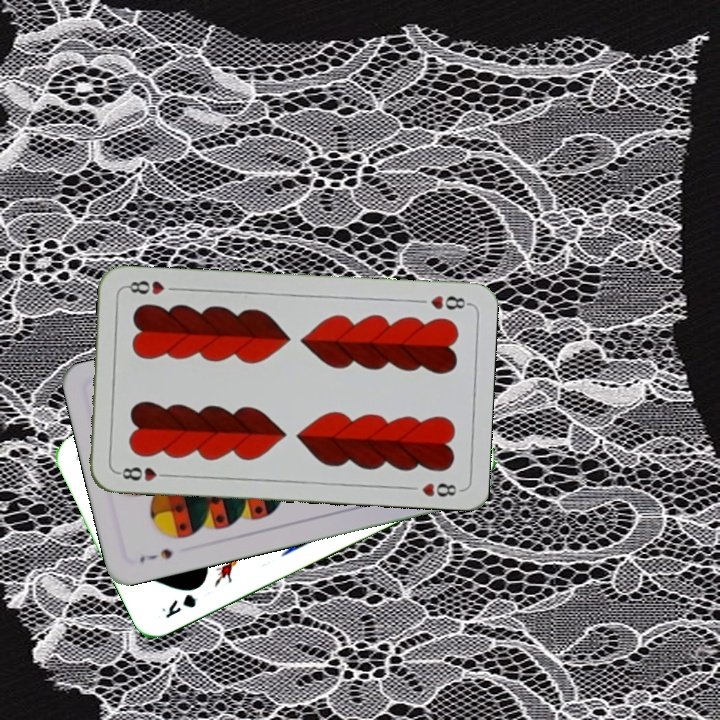GK: (157, 589, 199, 621)
H8: (114, 463, 173, 484), (426, 291, 471, 312)
S7: (135, 544, 176, 566)
